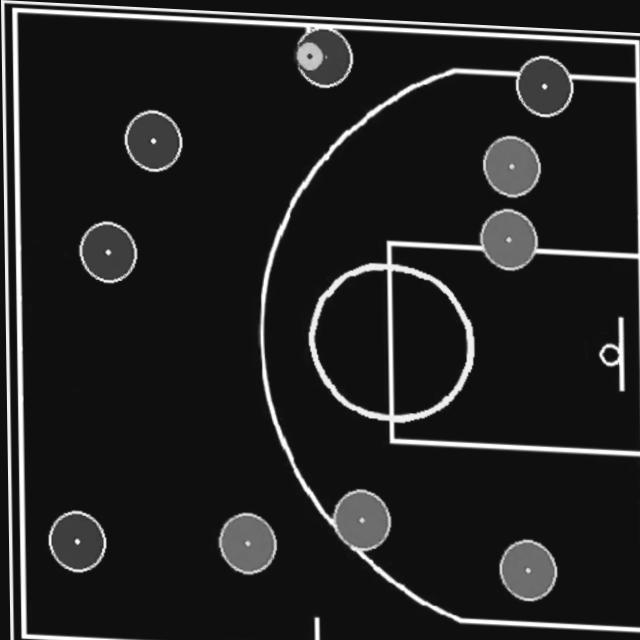Basketball: (294, 37, 323, 69)
Team_A: (293, 22, 352, 85), (77, 219, 136, 282), (514, 49, 572, 113), (46, 509, 104, 573), (123, 108, 181, 171)
Team_B: (328, 484, 389, 548), (216, 509, 275, 573), (495, 532, 553, 597), (478, 202, 537, 265), (481, 129, 539, 192)
